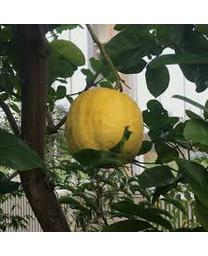lemon: (64, 87, 144, 165)
